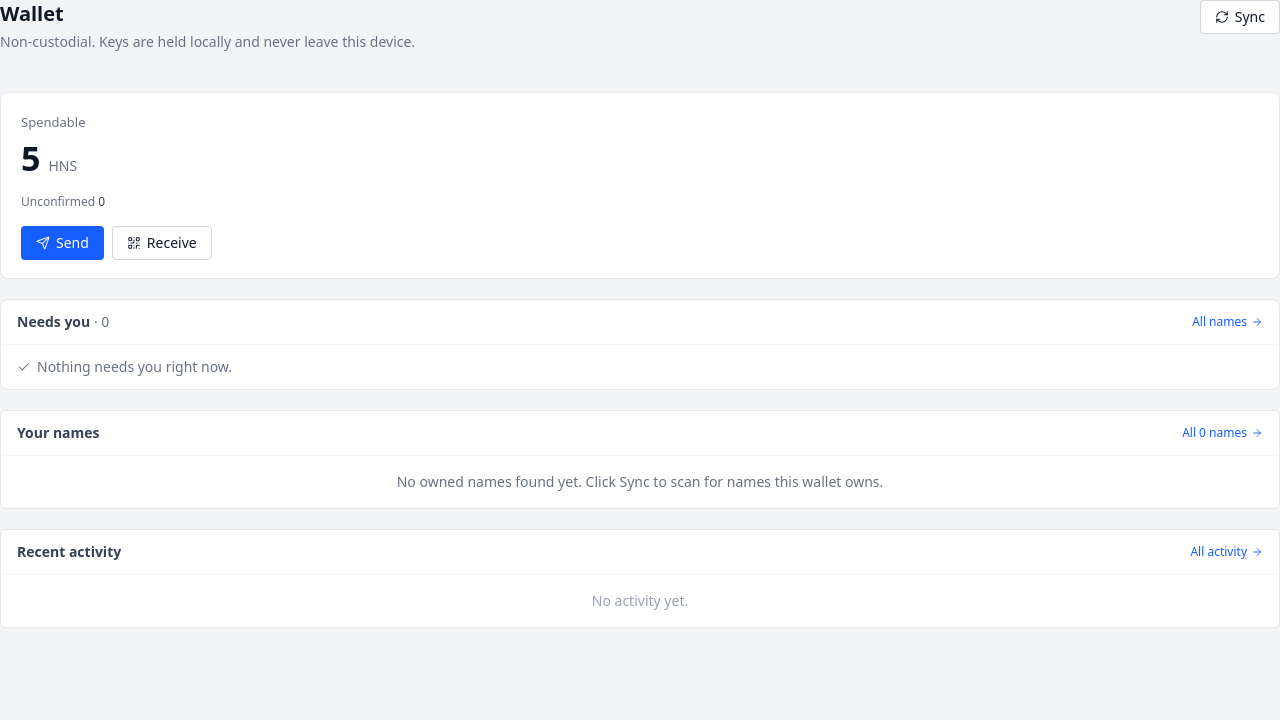
it: WalletView send flow (asset safety) › on broadcast failure: shows a persistent error, keeps the dialog open, and never reports success
Check: the button with test id "receive-open" is shown, box [112,226,212,260]
Click the button with test id "wallet-send" at (62, 242), box [21,226,104,260]
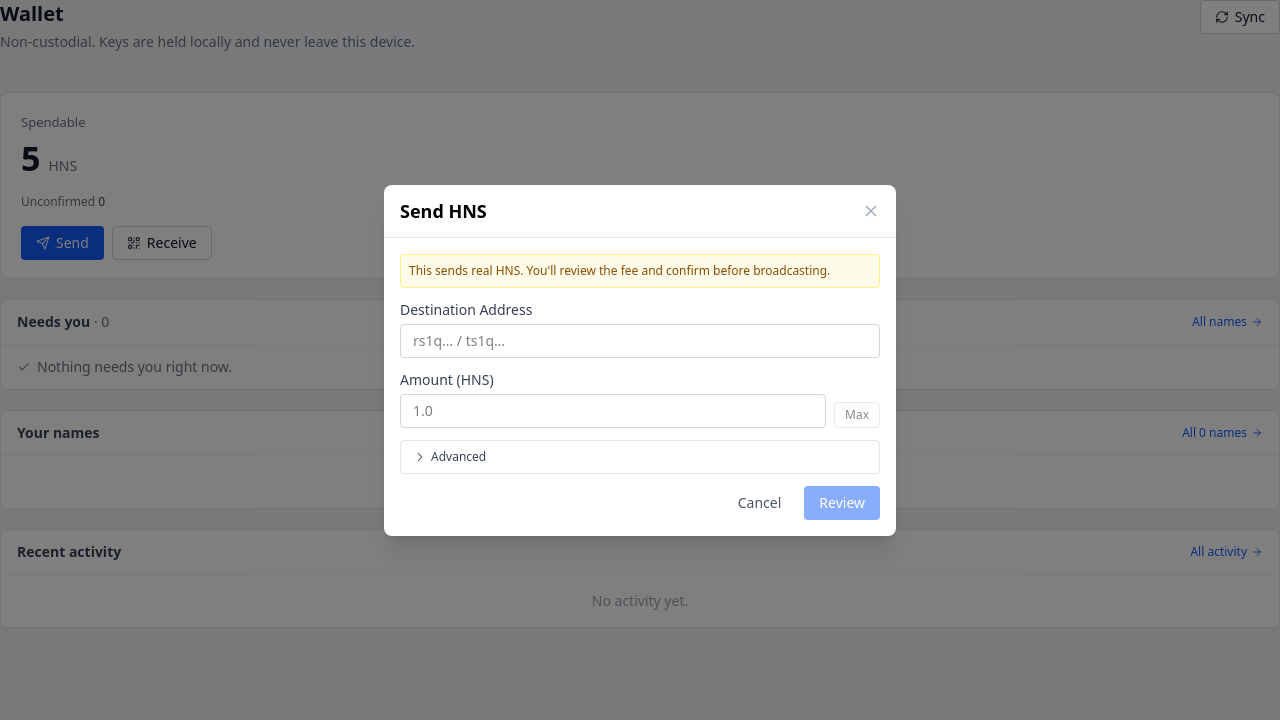
Type "rs1qkc9l7ykllufaxa6yfq47krr5xlcunyqv3svqj2" into the field with placeholder "rs1q… / ts1q…" at (640, 340), box [400,324,880,358]
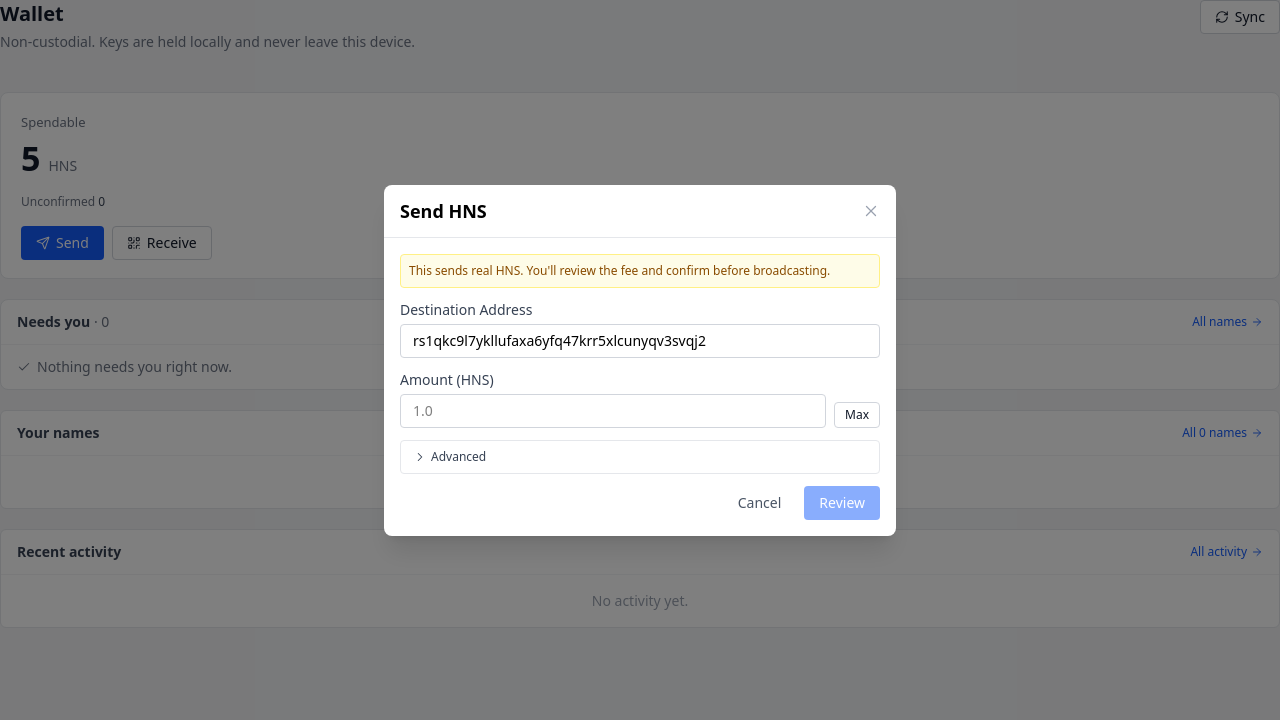
Type "1" into the number field with placeholder "1.0" at (613, 410), box [400,394,826,428]
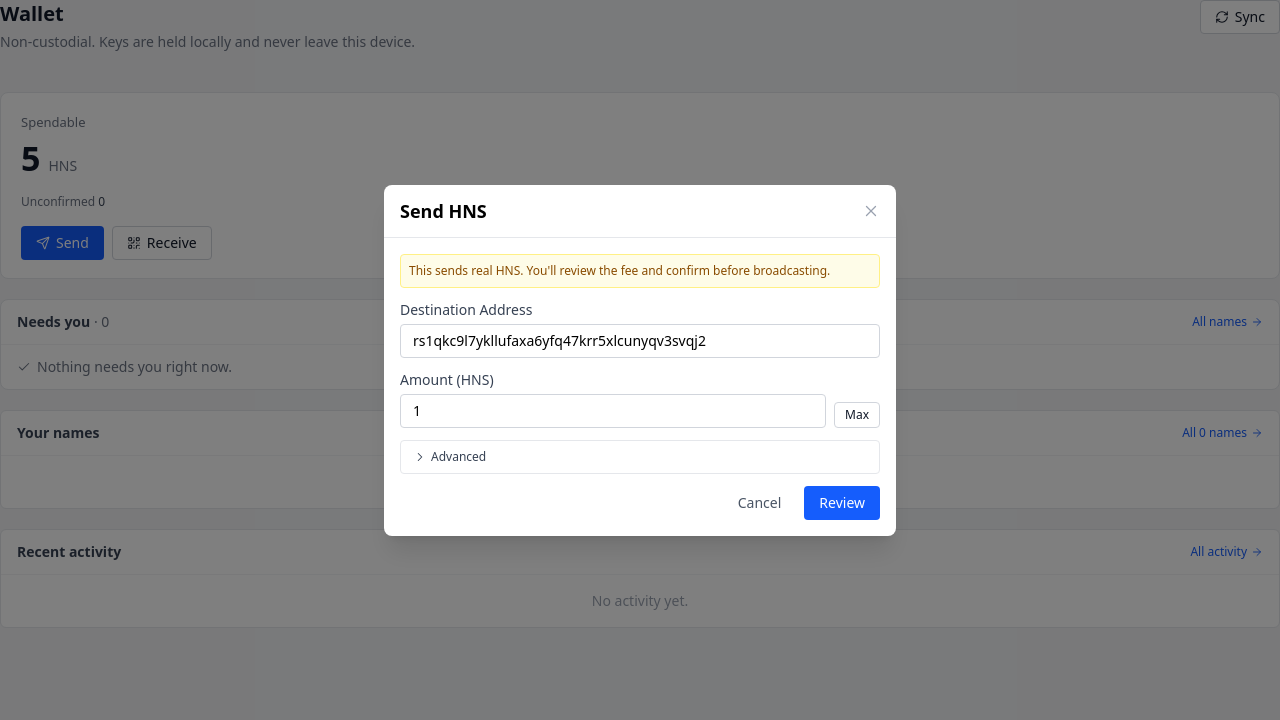
Click the button "Review" at (842, 502), box [804,486,880,520]
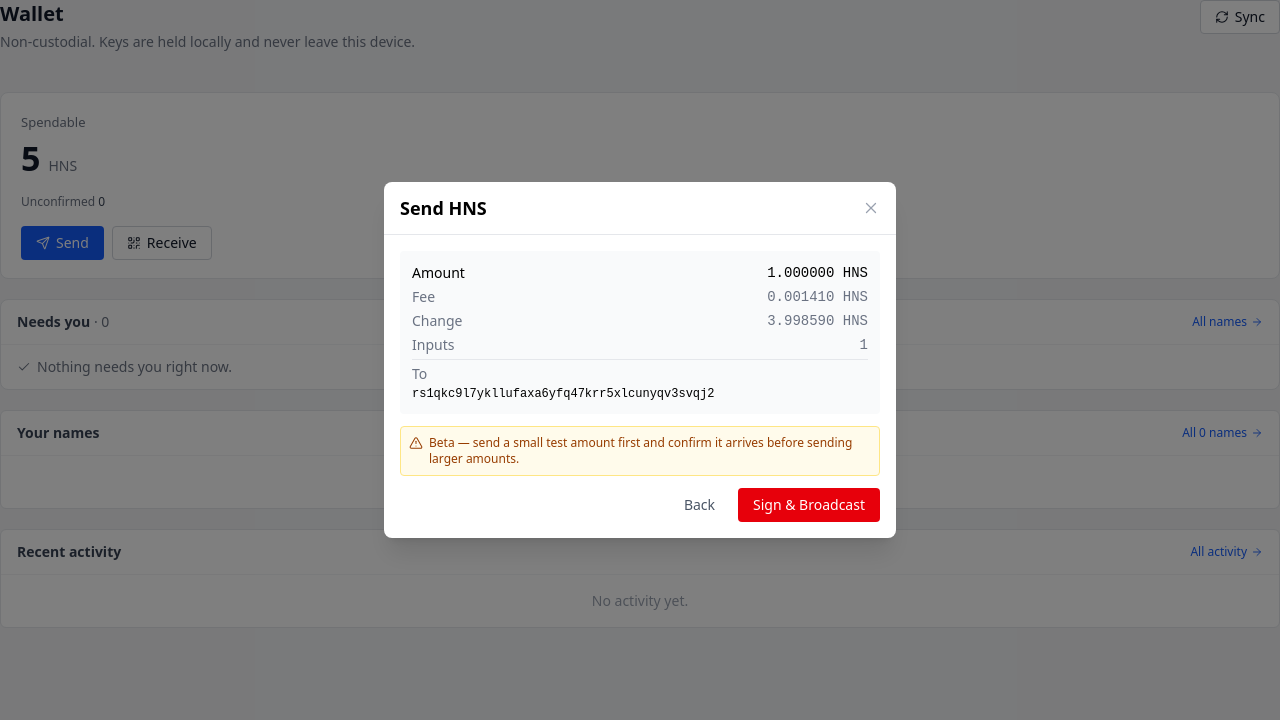
Check: the button "Sign & Broadcast" is shown
Click the button "Sign & Broadcast" at (809, 505), box [738,488,880,522]
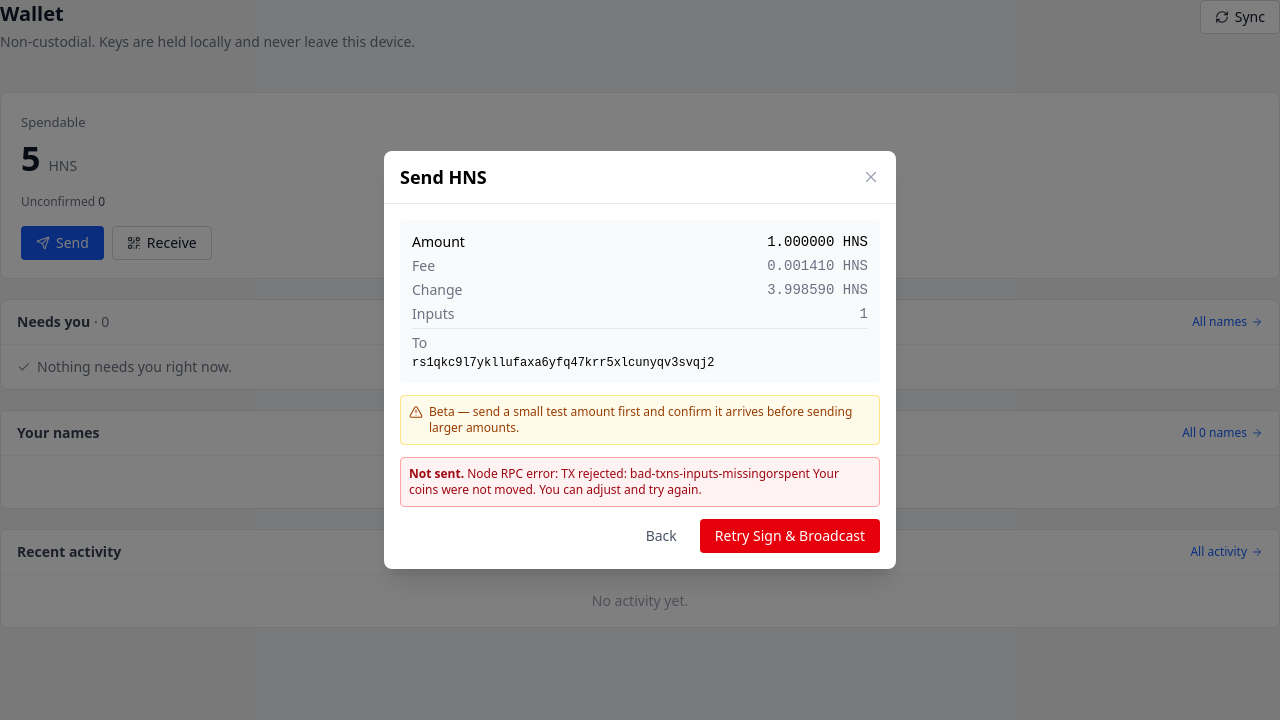
Check: the text with test id "send-recipient" reads "rs1qkc9l7ykllufaxa6yfq47krr5xlcunyqv3svqj2", box [412,356,714,370]
Check: the message with test id "send-error" shows "Not sent", box [409,465,464,482]
Check: the message with test id "send-error" shows "not moved", box [409,465,839,498]
